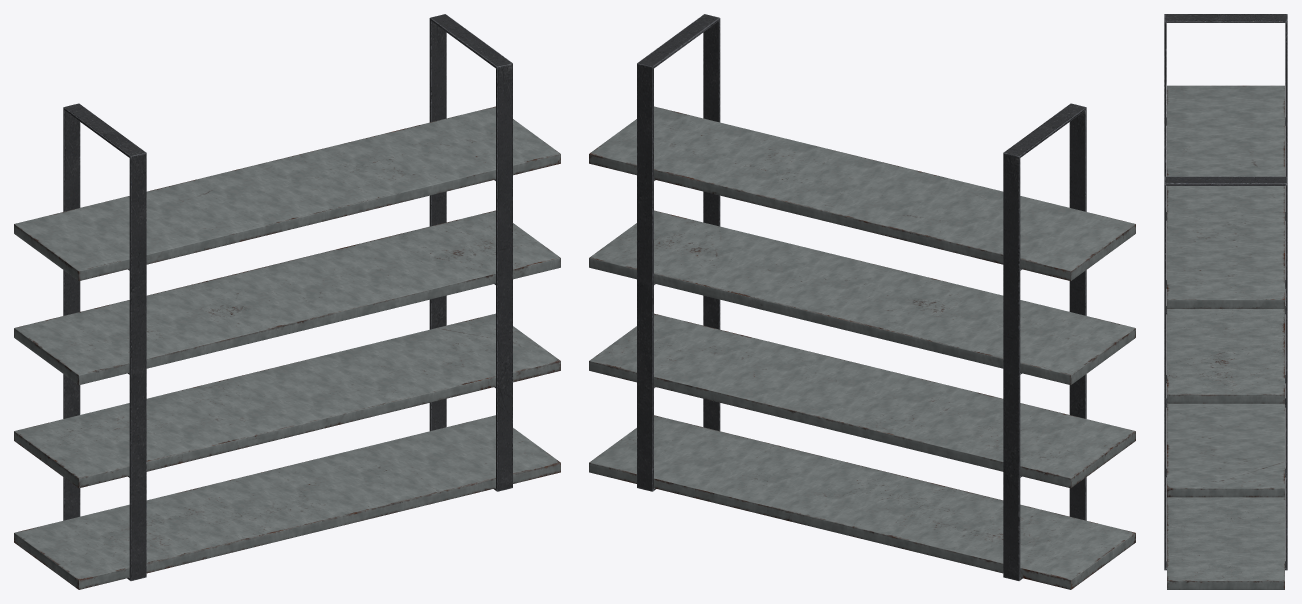
The model's file is Shelves.fbx.
The picture shows the model from 3 angles, left to right: view 1: azimuth 30°, elevation 25°; view 2: azimuth 150°, elevation 25°; view 3: azimuth 270°, elevation 25°; orthographic projection. The views are drawn at different scales.
Parts seen in each view (by area): view 1: Shelves.001; view 2: Shelves.001; view 3: Shelves.001.
Part boxes in pixels (<box>): Shelves.001: <box>14,14,560,589</box>; Shelves.001: <box>589,14,1135,589</box>; Shelves.001: <box>1164,14,1287,589</box>.
Bounding box in the file's own units: 150 × 126 × 36.48.
